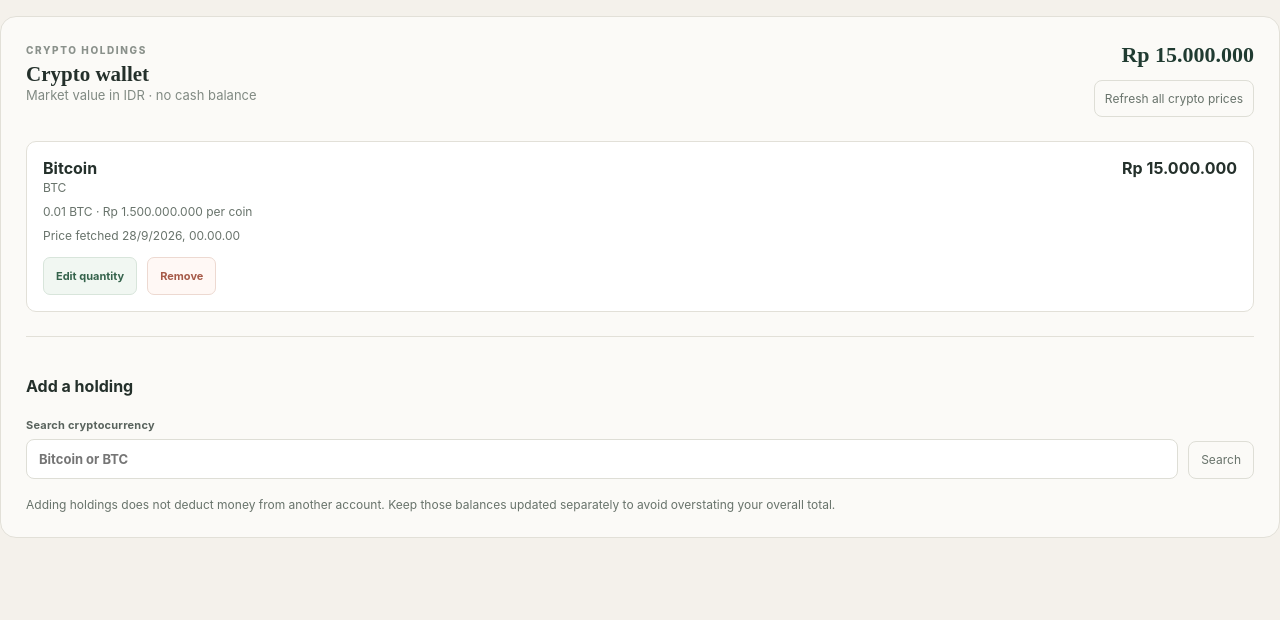
Test: keeps old prices on provider failure and allows another attempt
Expected: the text "0.01 BTC" is shown, [43,204,252,219]
Click the button "Refresh all crypto prices" at (1174, 98), box [1094,80,1254,117]
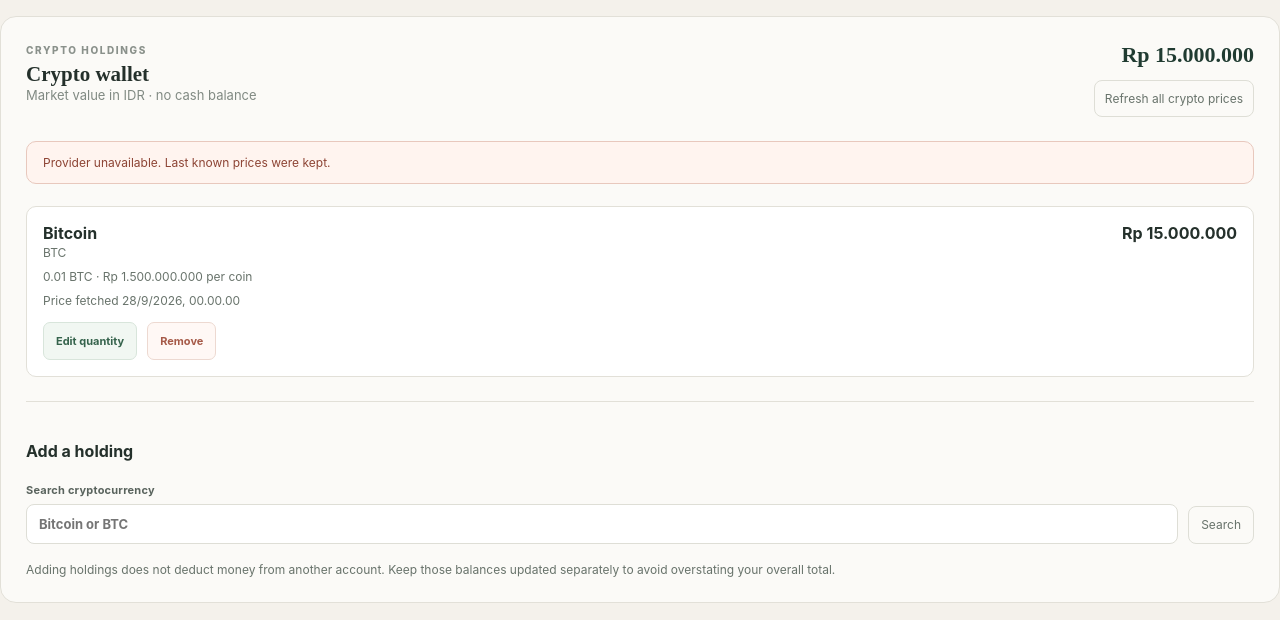
Expected: the text "Rp 1.500.000.000" is shown, [103,269,203,284]
Now the message shows "Last known prices were kept", box [43,155,330,170]
Click the button "Refresh all crypto prices" at (1174, 98), box [1094,80,1254,117]
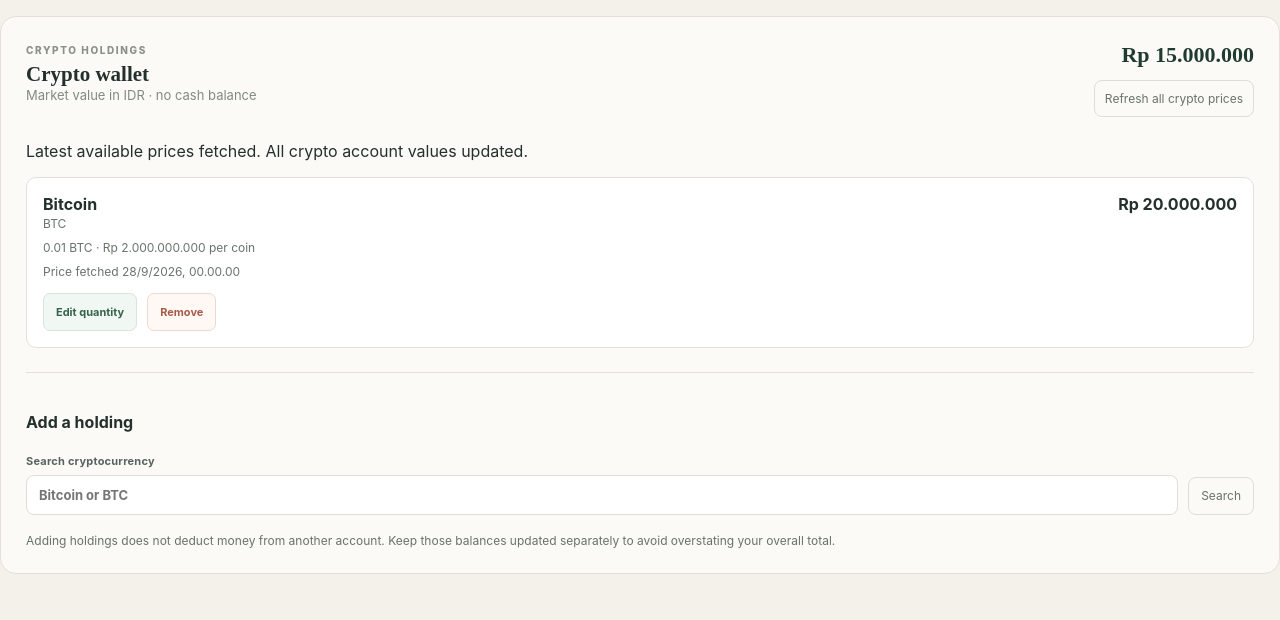
Now the text "Latest available prices fetched. All crypto account values updated." is shown, box [26,141,528,161]
